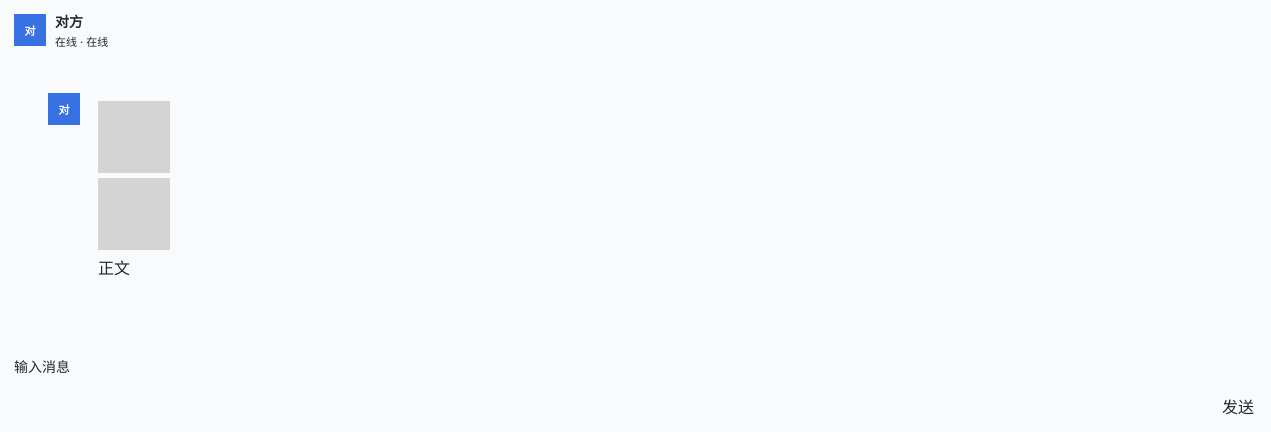
Test: chat image and message interactions › forwards an accepted message through its own action without changing the reply
Right-click the text "正文": [114, 267] box [98,255,130,279]
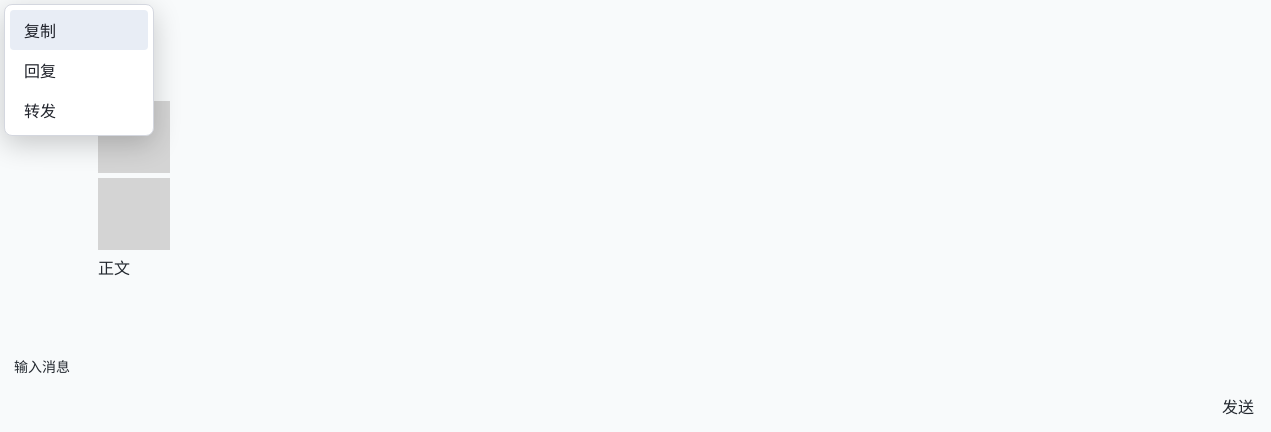
Click the menu item "转发": [79, 110] box [10,90,148,130]
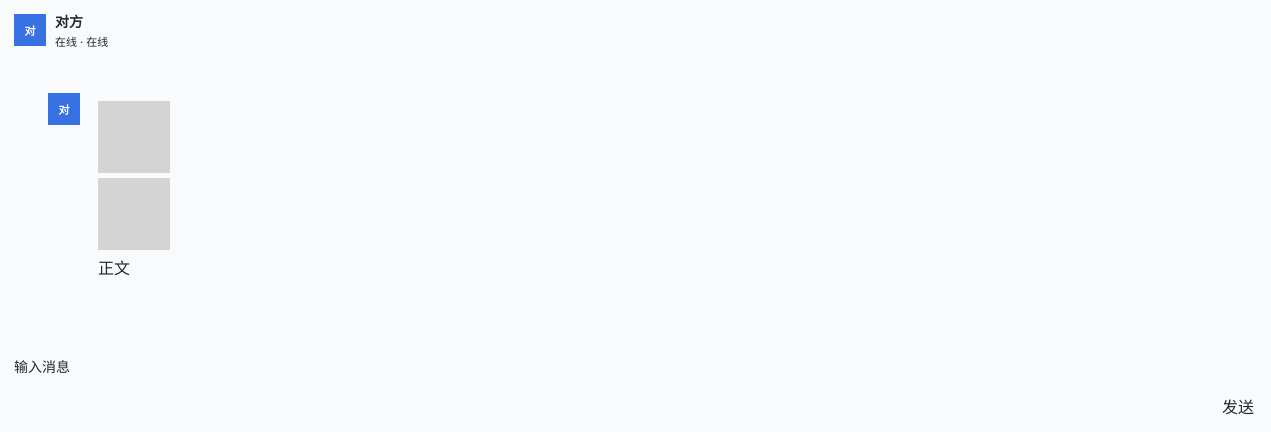
Now the menu is gone
